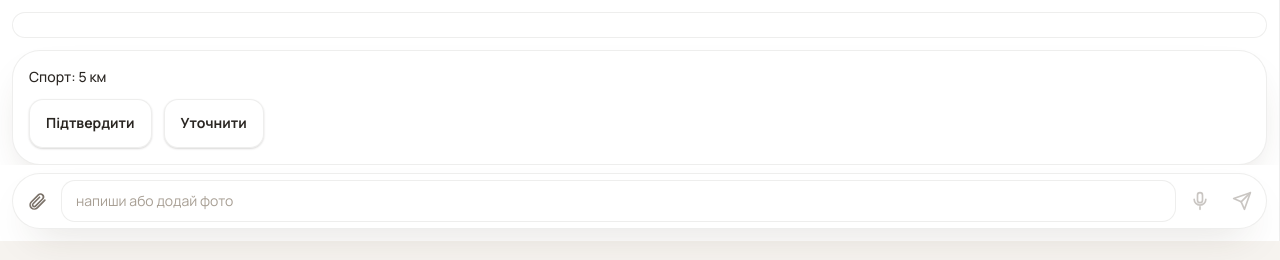
Test: ChatPanel -- confirmed (AC-02) › confirming the active proposal clears the ProposalCard and shows a synthesized confirmation bubble
Click the button "Підтвердити": point(90, 123) x1=29 y1=99 x2=152 y2=148
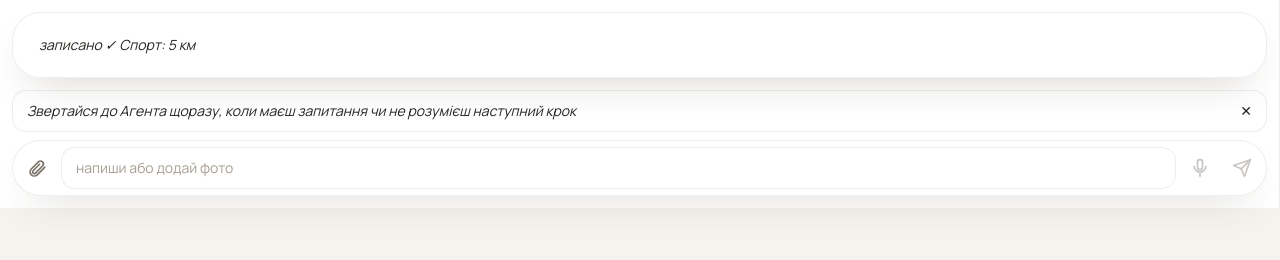
Expected: the button "Підтвердити" is gone
Expected: the text "записано ✓ Спорт: 5 км" is shown, x1=25 y1=25 x2=1246 y2=65
